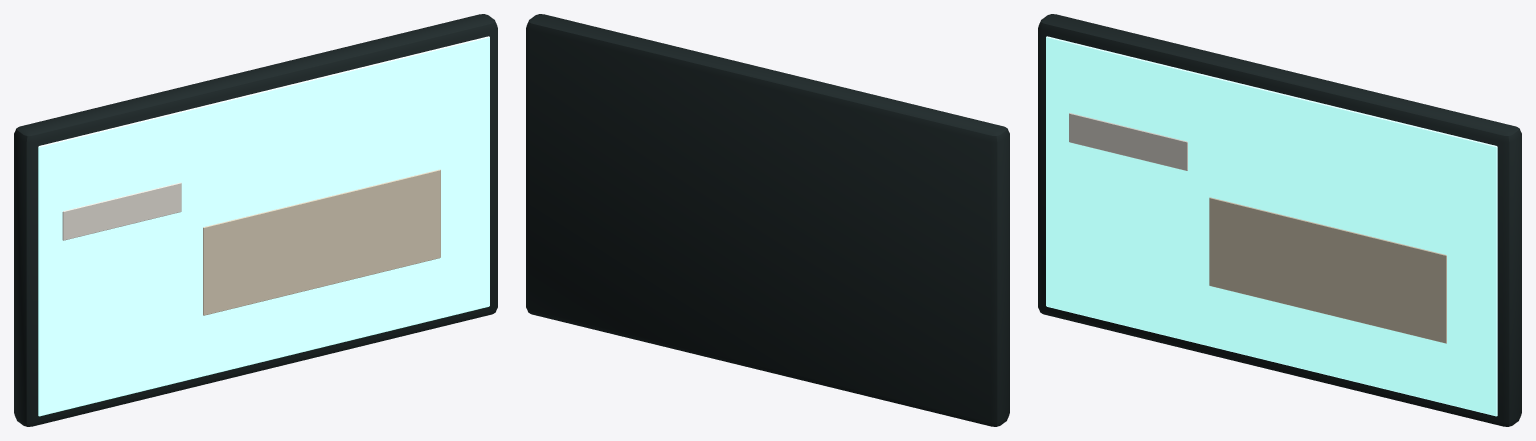
The model's file is wall_display.glb.
3 views of the same model, side by side, from view 1: azimuth 30°, elevation 25°; view 2: azimuth 150°, elevation 25°; view 3: azimuth 330°, elevation 25° (orthographic).
Parts seen in each view (by area): view 1: FURN-wall_display; view 2: FURN-wall_display; view 3: FURN-wall_display.
Boxes of the visible parts, box(x1,y1,x2,y2) form: FURN-wall_display: box(14, 14, 497, 426); FURN-wall_display: box(526, 14, 1009, 426); FURN-wall_display: box(1038, 14, 1521, 426).
Bounding box in the file's own units: 1.6 × 0.95 × 0.098.
